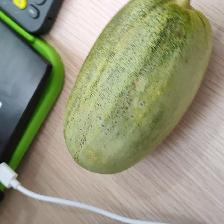gua: (91, 20, 158, 144)
